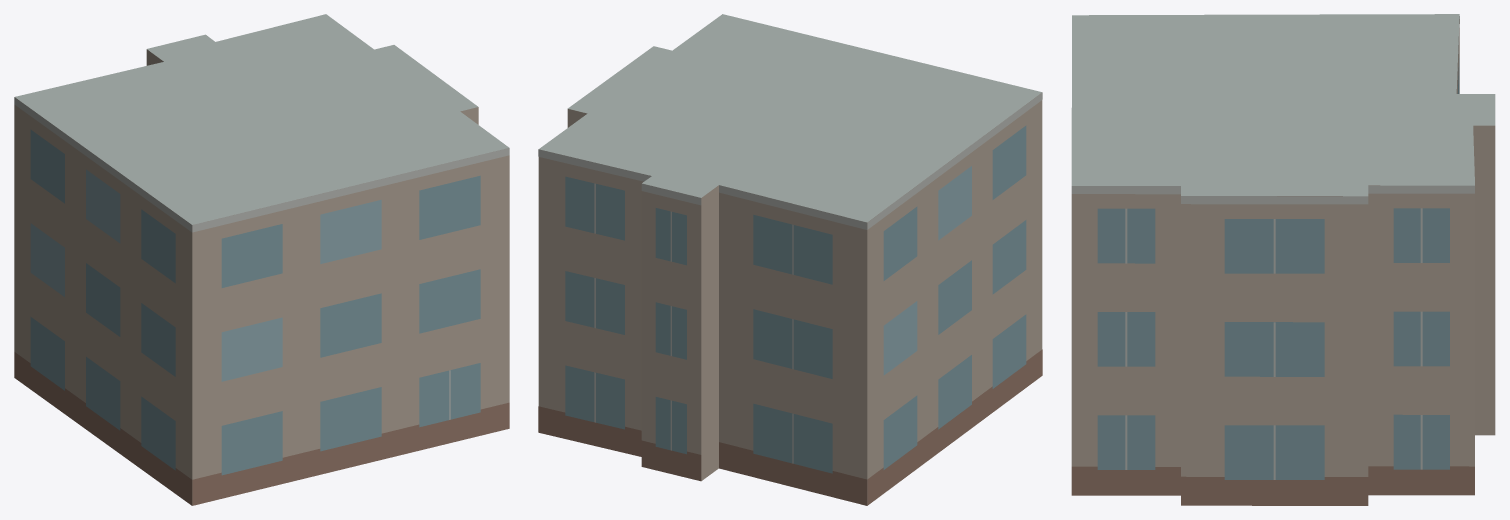
The model's file is survey-upis-32778714.glb.
3 views of the same model, side by side, from view 1: azimuth 30°, elevation 25°; view 2: azimuth 150°, elevation 25°; view 3: azimuth 270°, elevation 25° (orthographic). The views are drawn at different scales.
Visible parts, largest first — view 1: survey-upis-32778714.tmp; view 2: survey-upis-32778714.tmp; view 3: survey-upis-32778714.tmp.
Part boxes in pixels (x1,y1,x2,y2): survey-upis-32778714.tmp: (14,14,509,505); survey-upis-32778714.tmp: (538,14,1042,505); survey-upis-32778714.tmp: (1071,14,1495,505).
Size of the model in its own units: 11.55 by 9.15 by 11.36.
